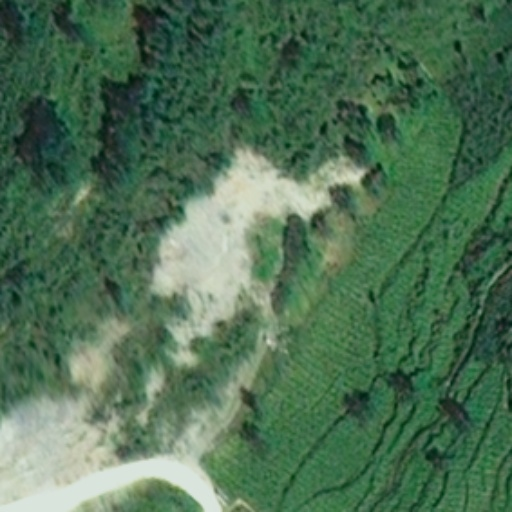landslide: (155, 147, 369, 348)
